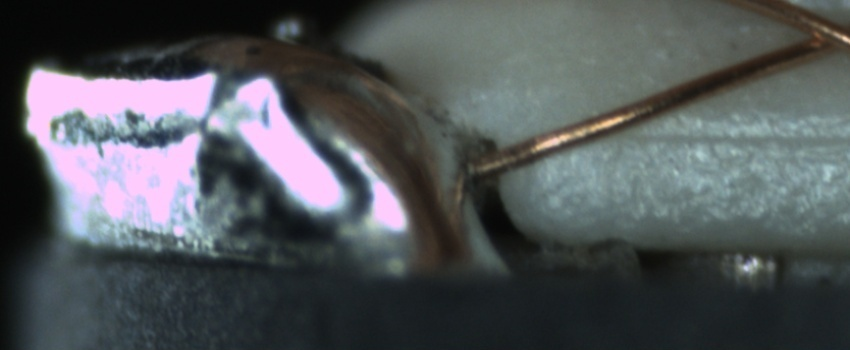CL: (778, 5, 849, 61)
DL: (608, 101, 843, 174)
